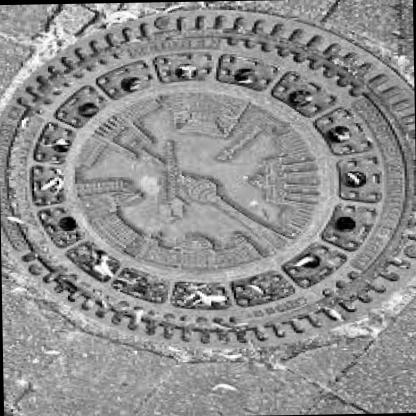manholes: (0, 9, 416, 356)
